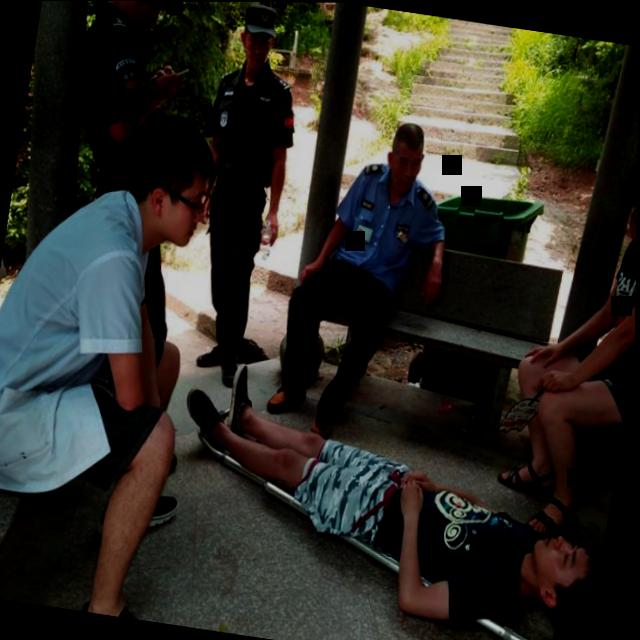Fall-Detected: (139, 341, 627, 640)
